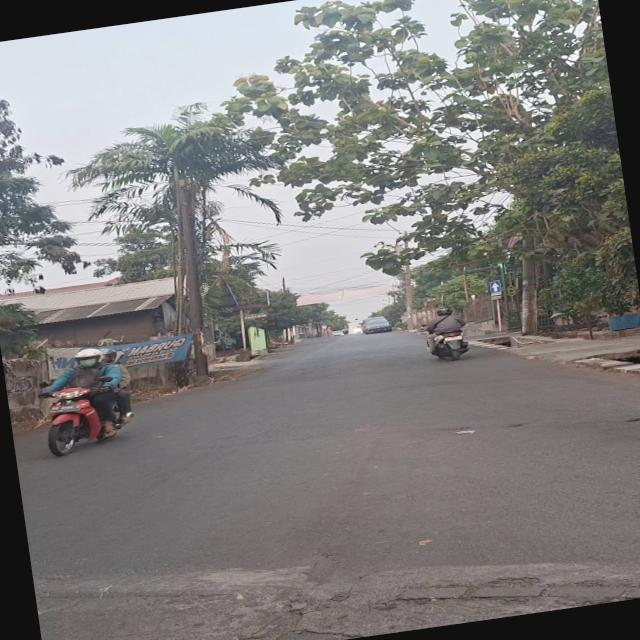WithHelmet: (35, 344, 134, 445), (95, 345, 142, 428), (422, 304, 471, 355)
